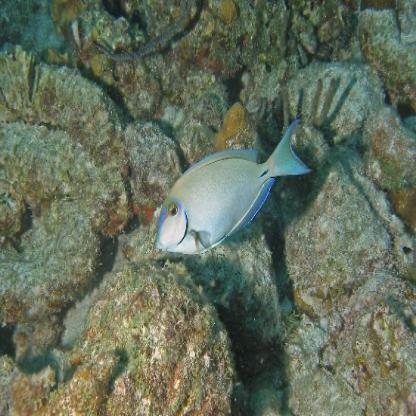Bio: (154, 116, 304, 257)
